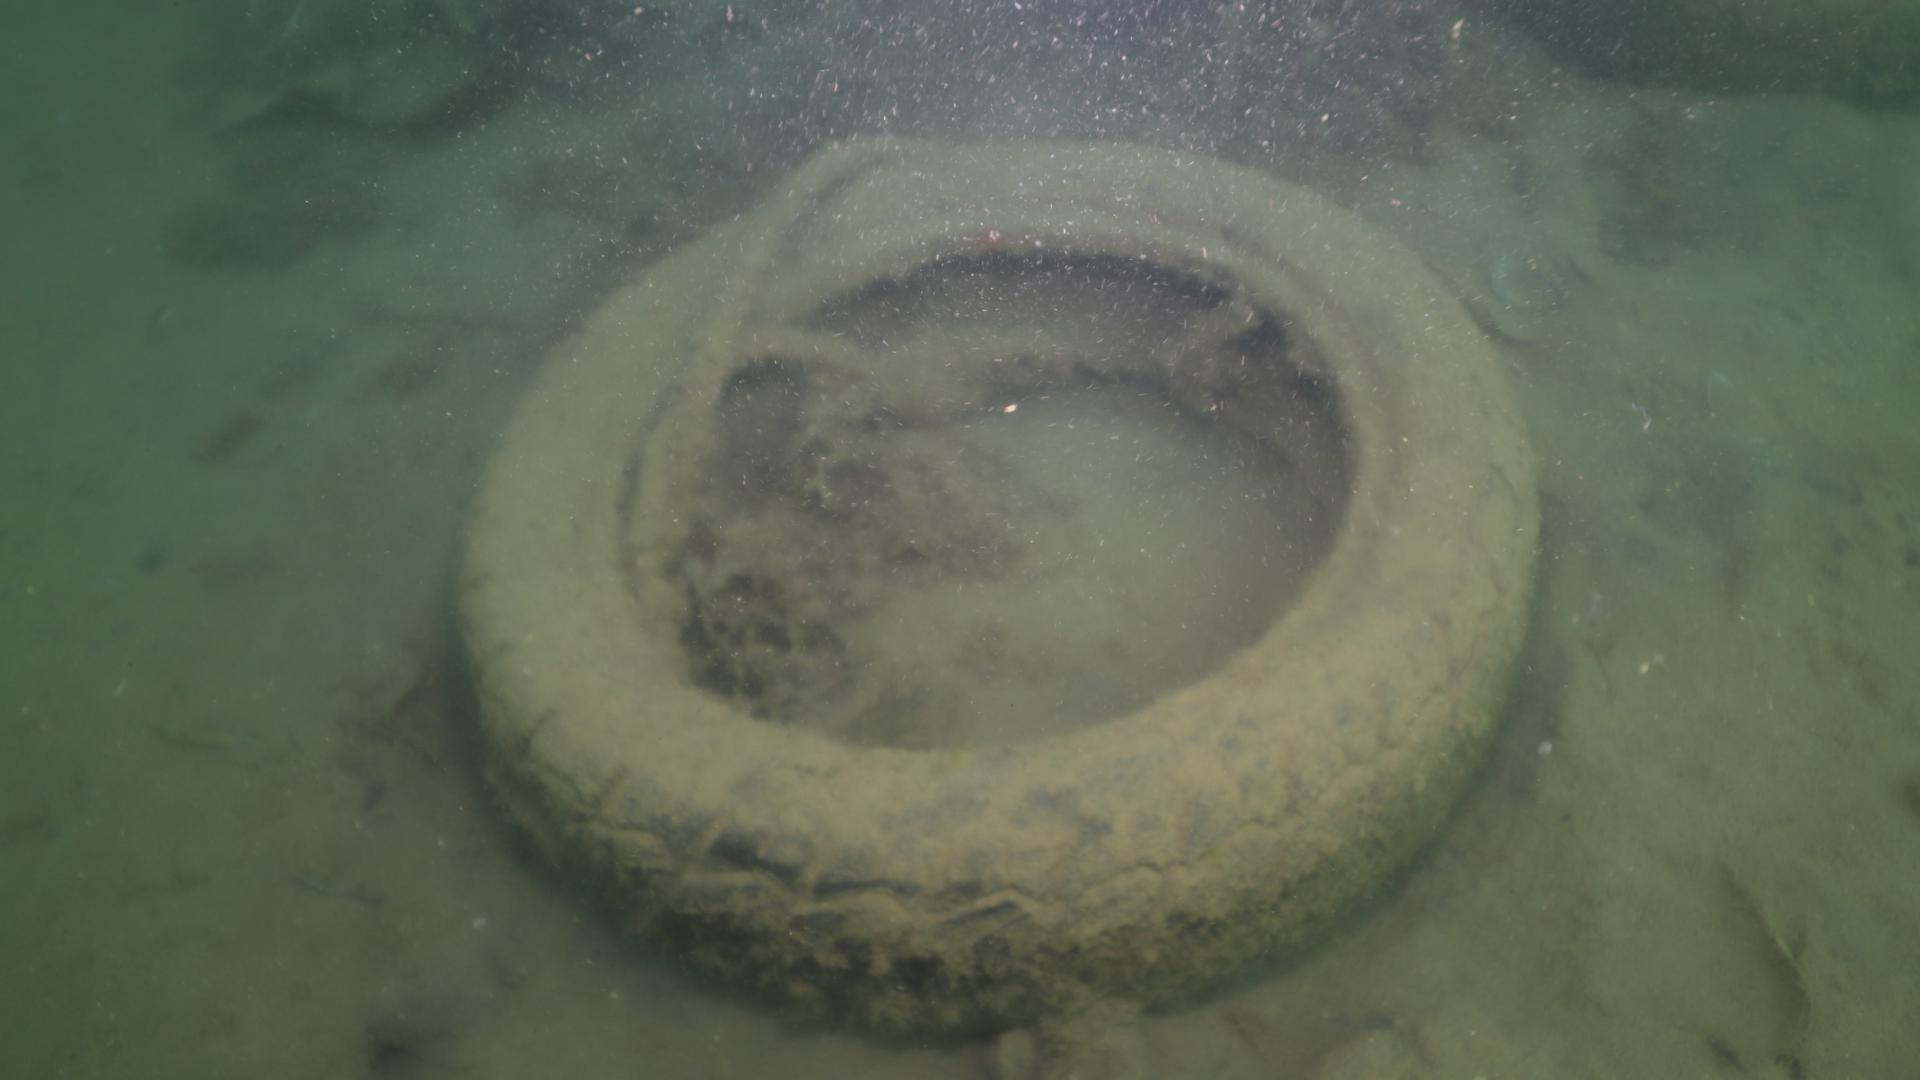bundle of ropes: (663, 128, 931, 553)
tire: (452, 131, 1539, 1050)
